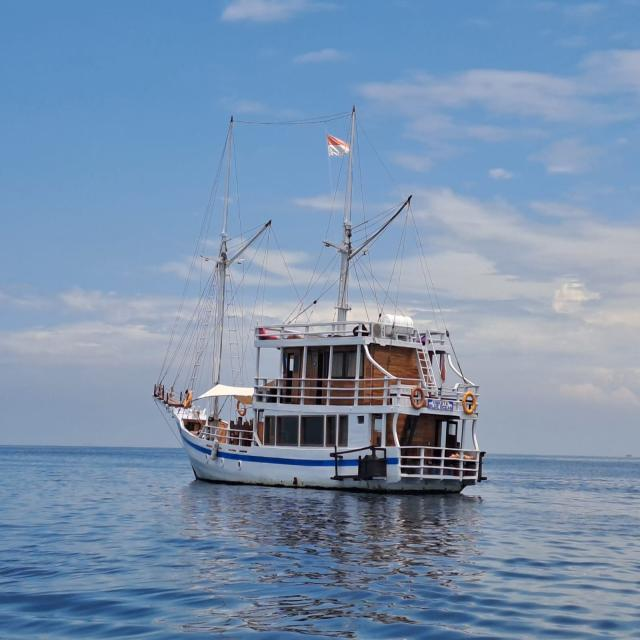Fishing Boat: (141, 172, 504, 547)
